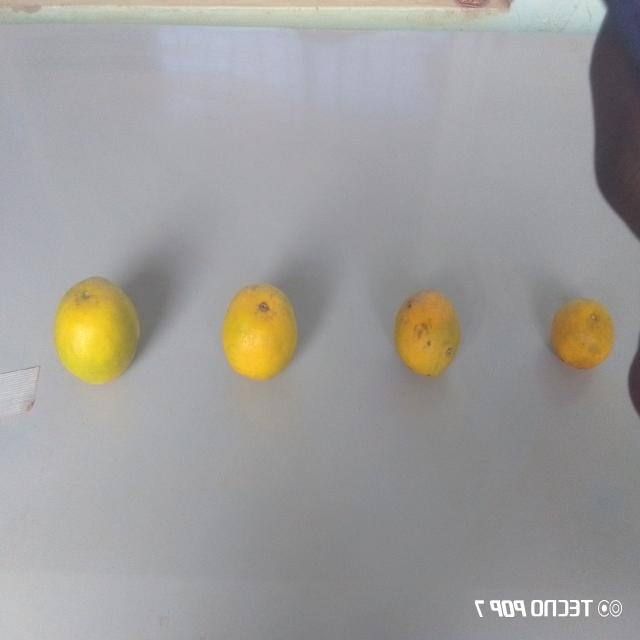agrume: (53, 271, 148, 389), (209, 277, 299, 395), (389, 282, 479, 386), (531, 297, 617, 383)
